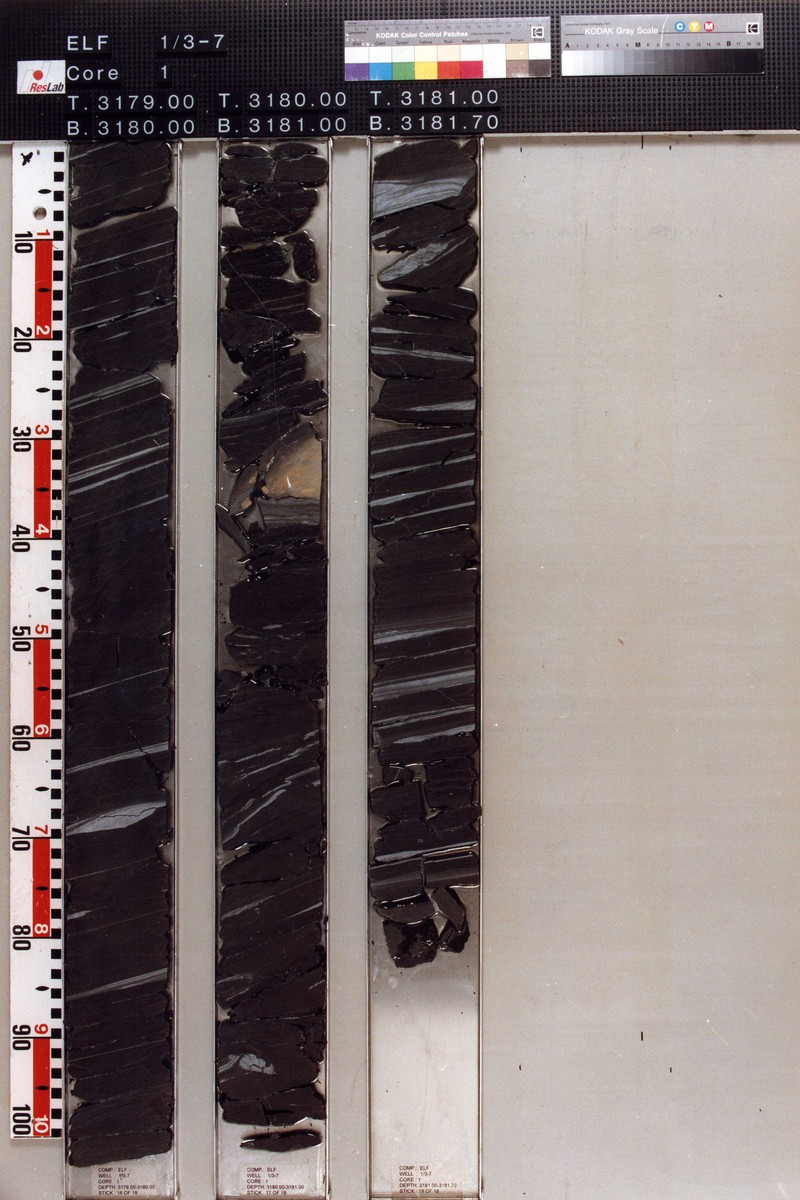core: (65, 142, 182, 1167), (215, 145, 331, 1157), (366, 138, 483, 971)
